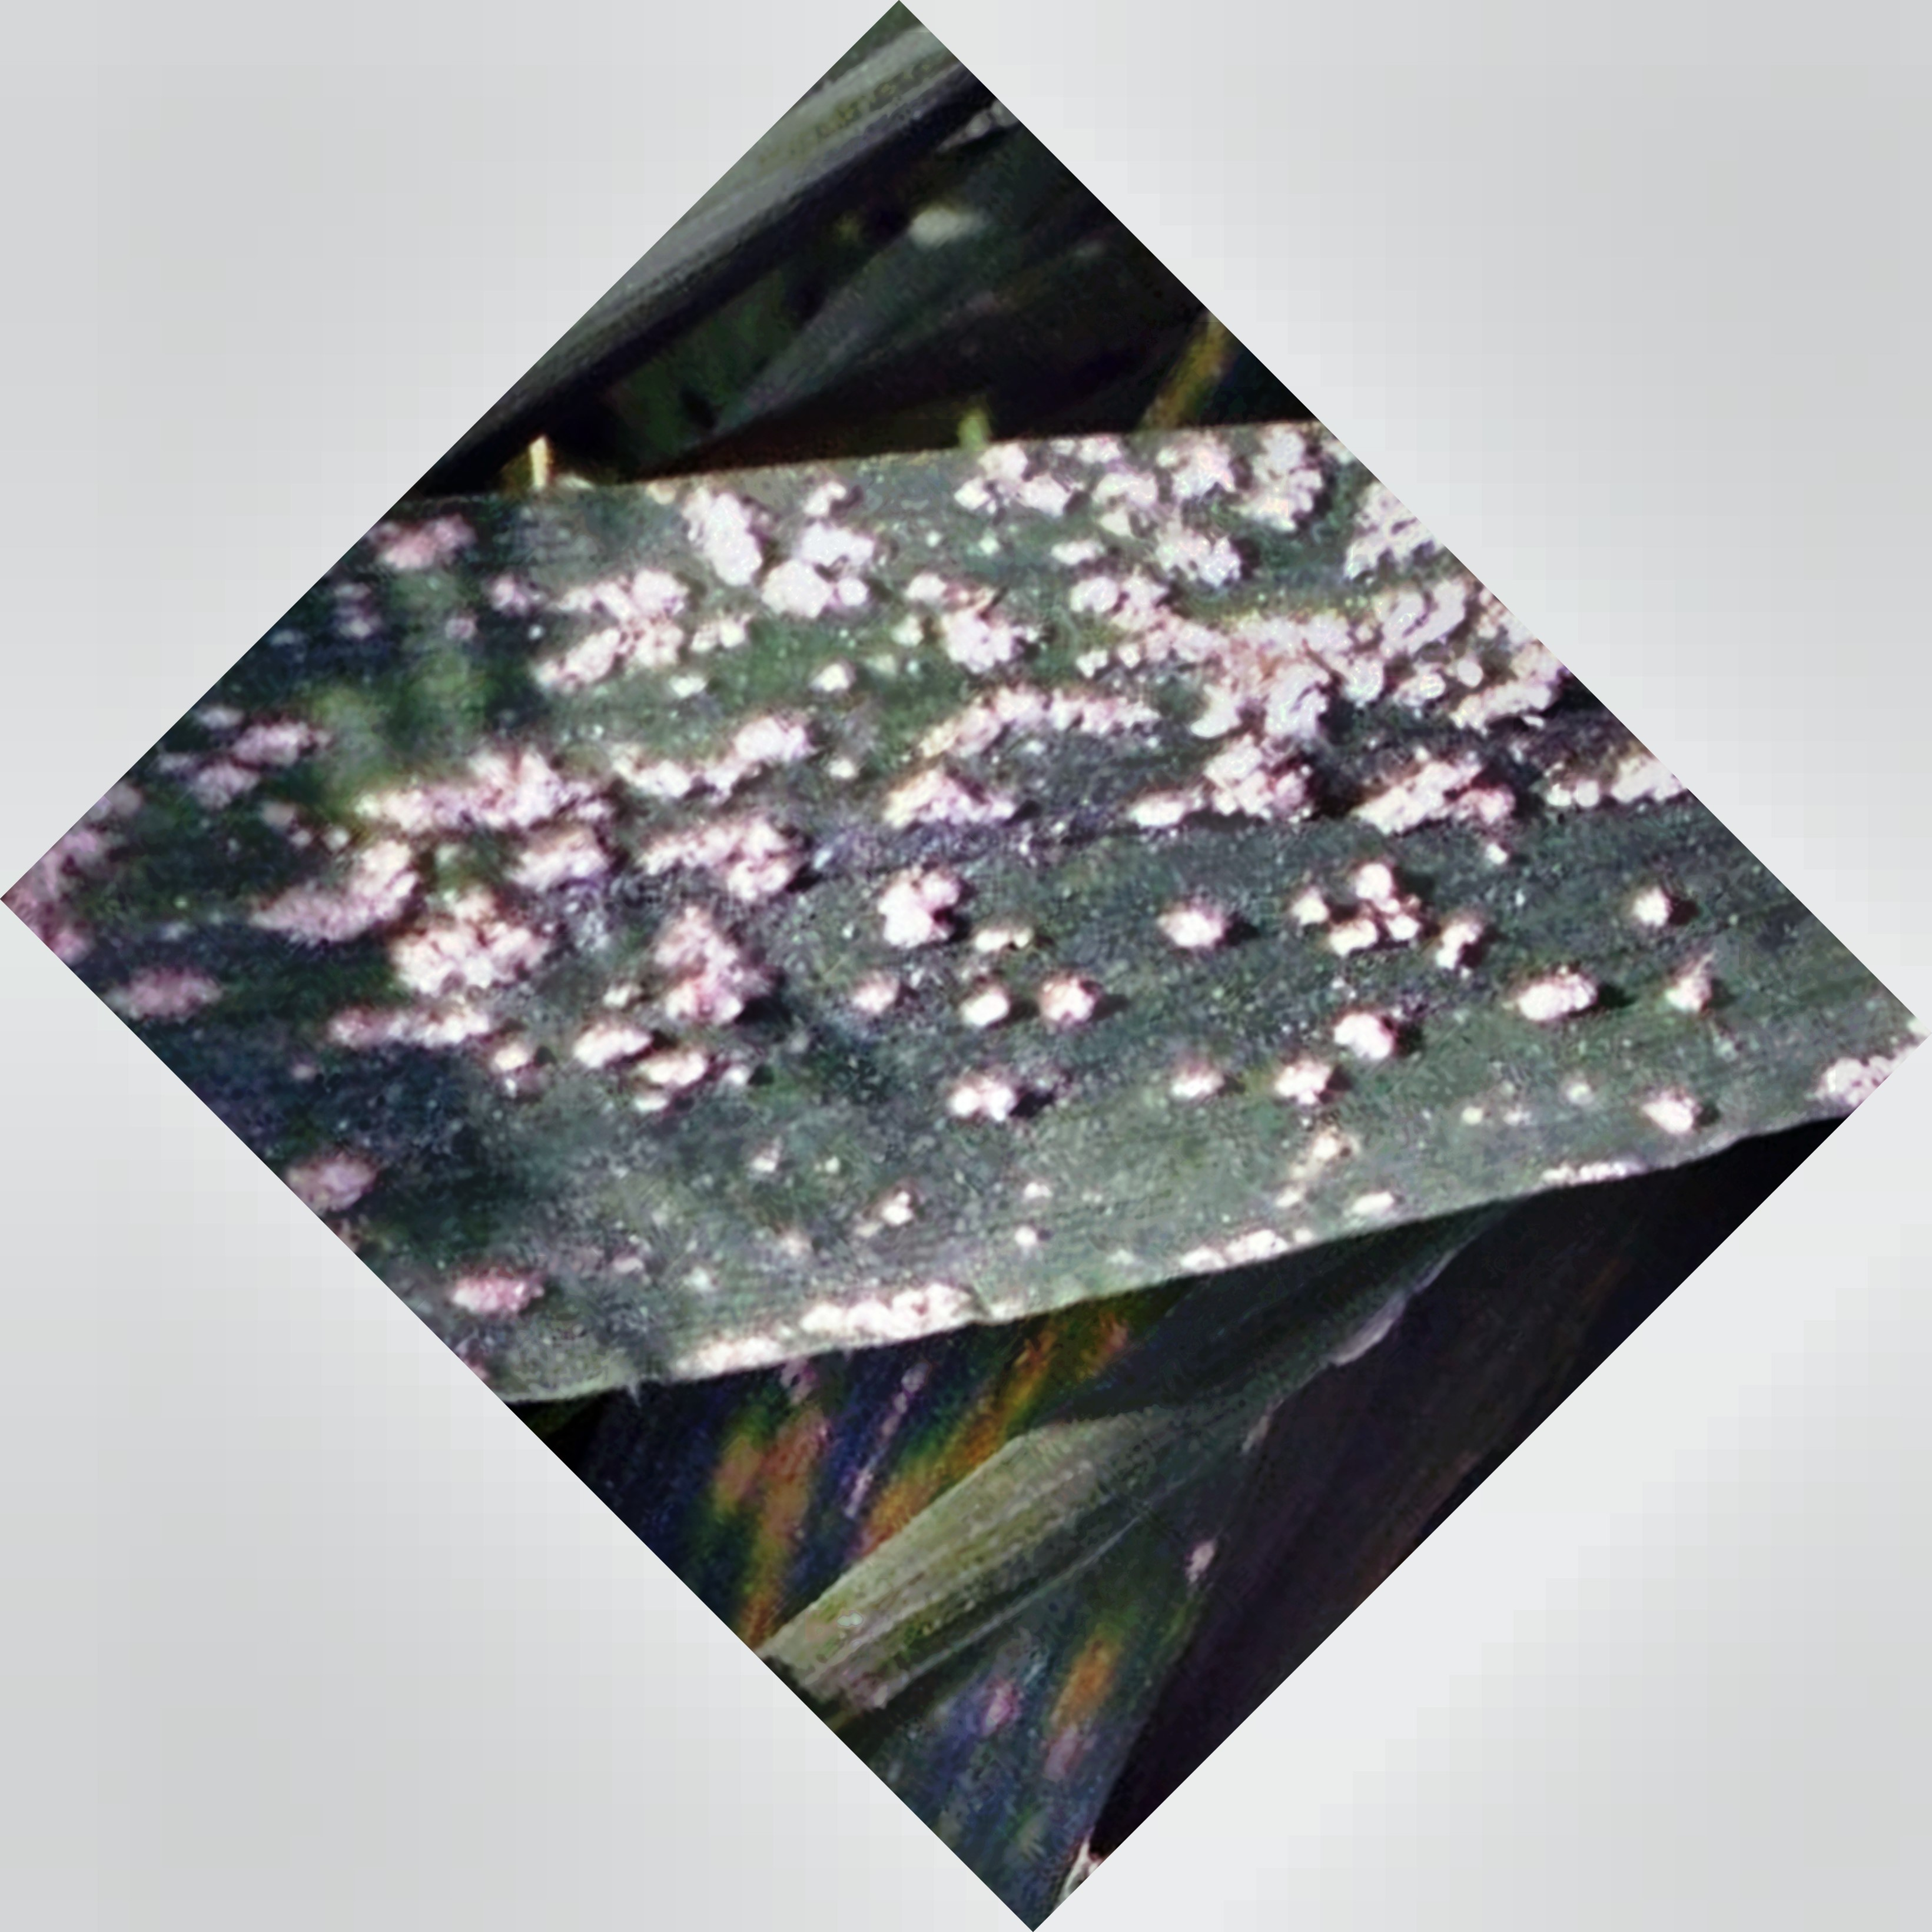Powdery Mildew: (228, 400, 1764, 1334)
